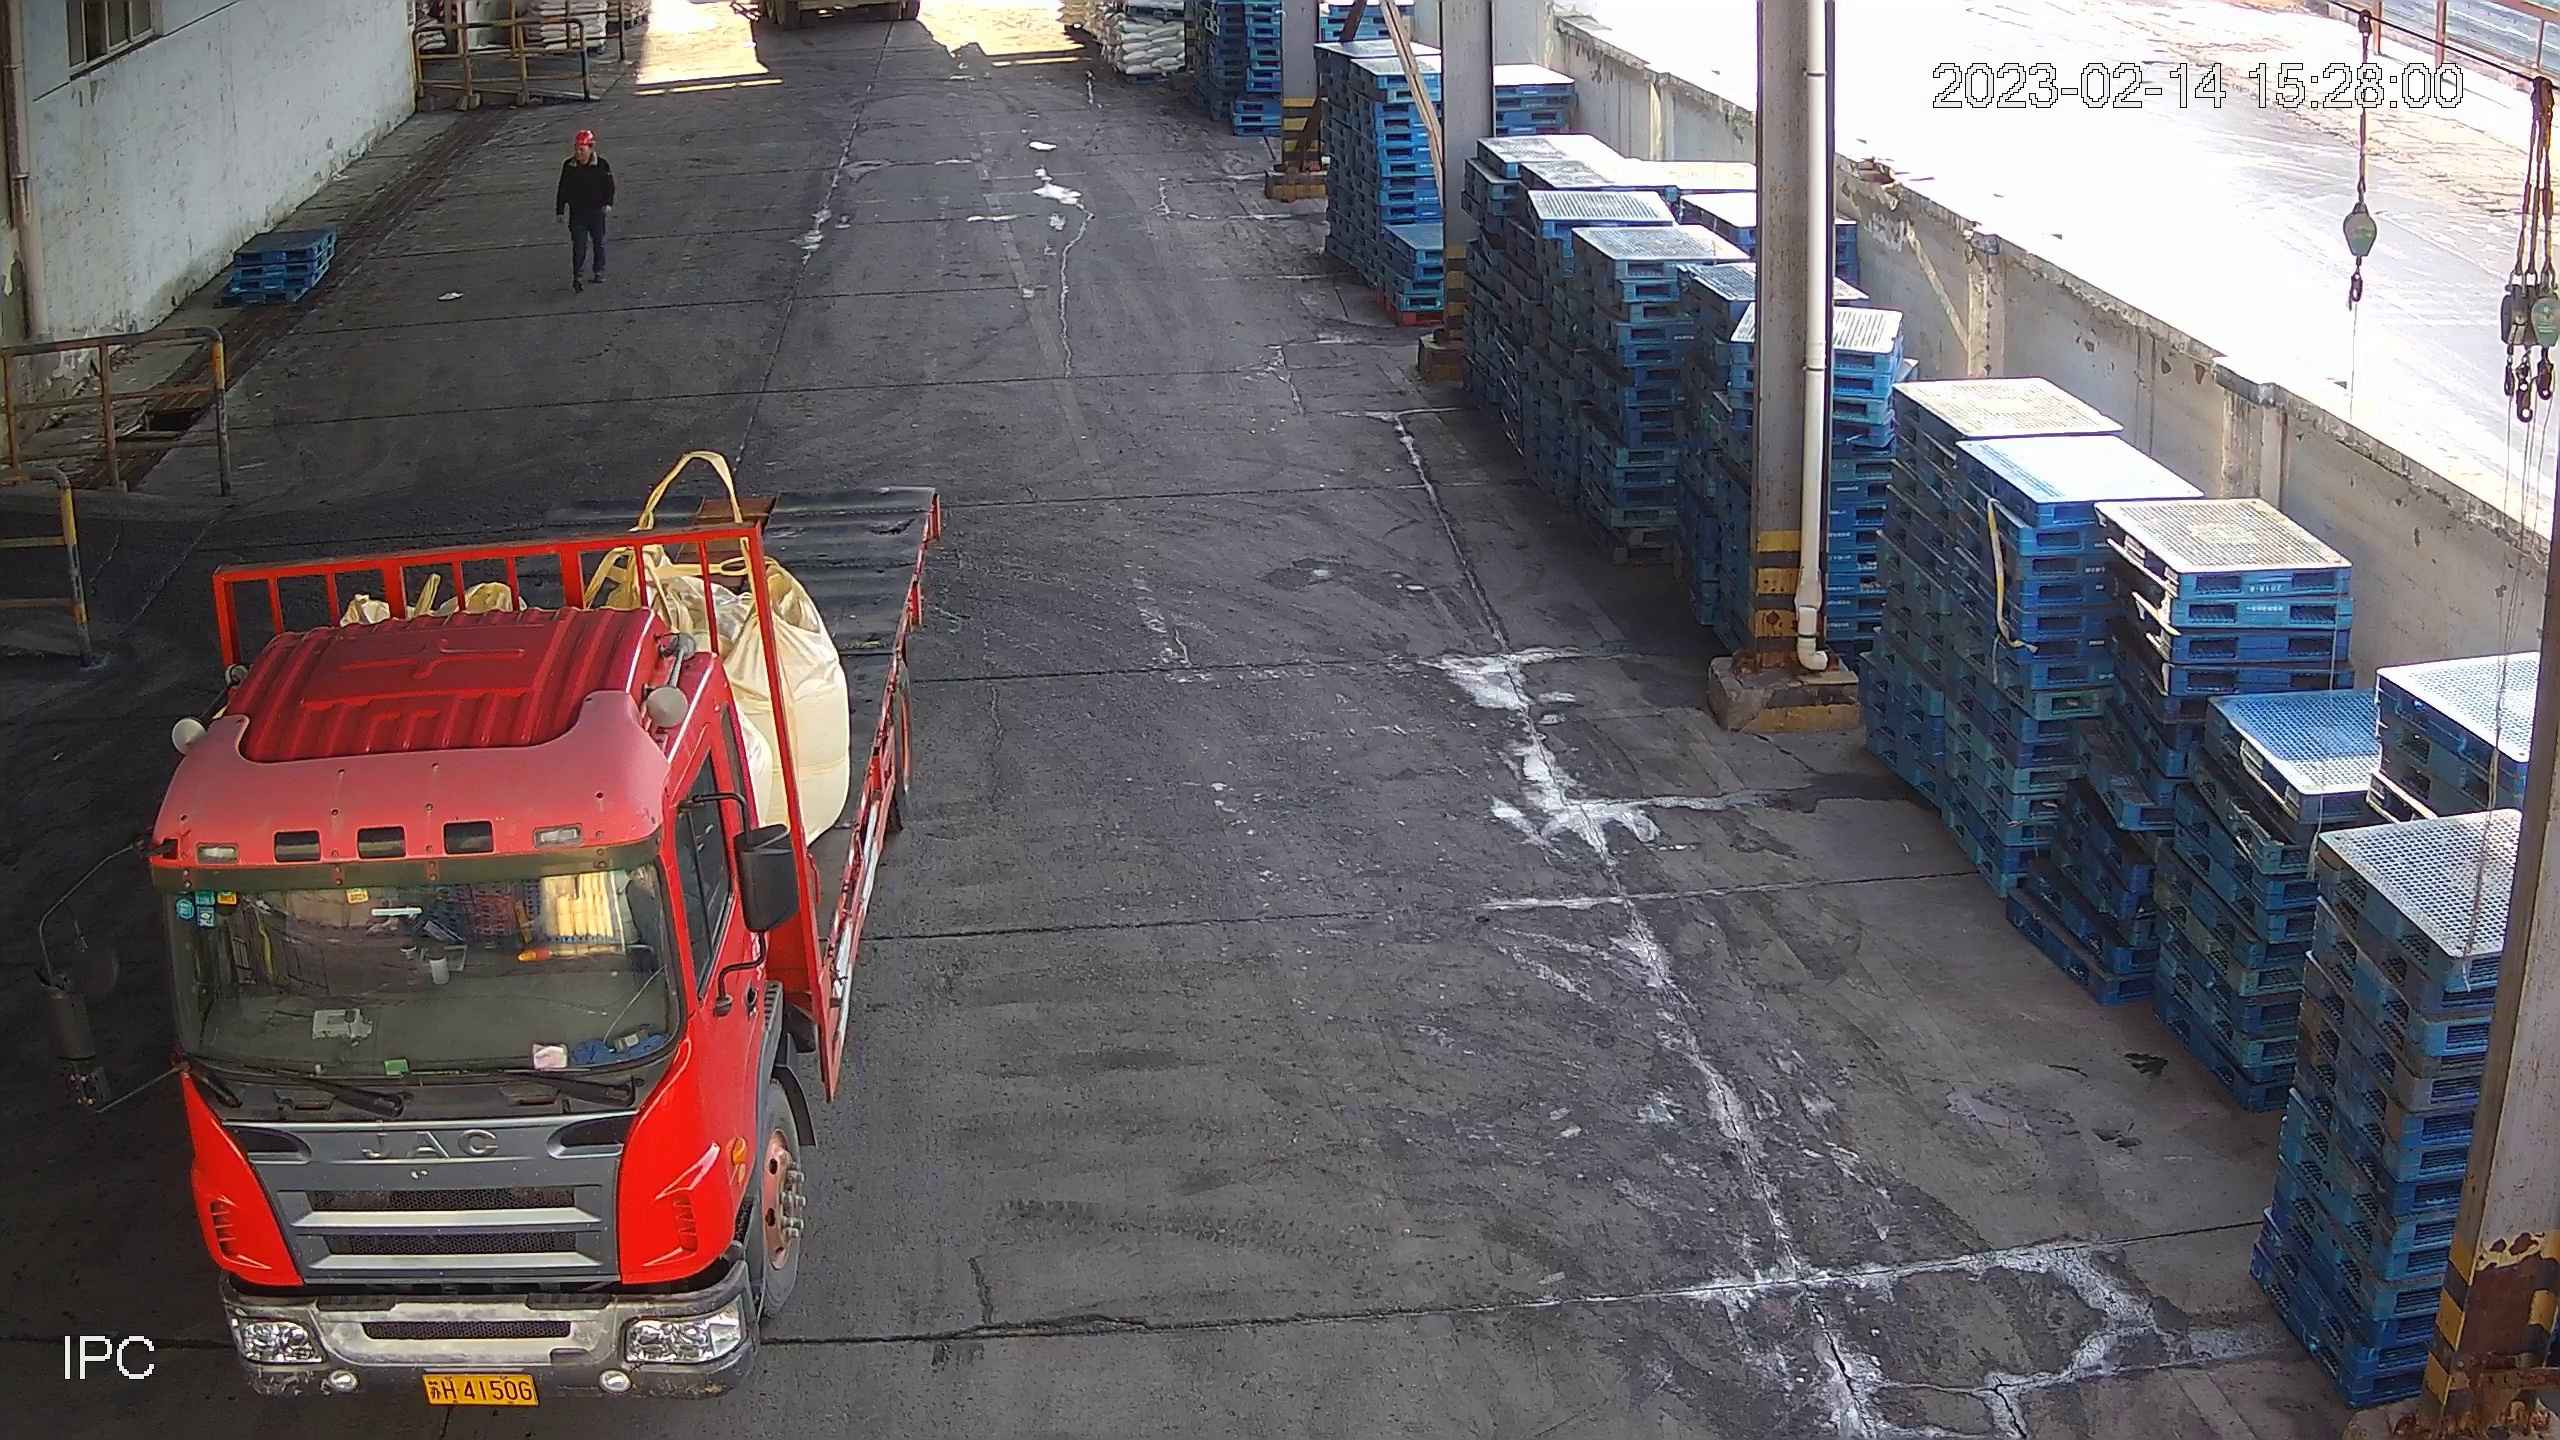head: (552, 132, 620, 198)
helmet: (573, 130, 593, 145)
truck: (42, 488, 949, 1410), (552, 132, 618, 296)
